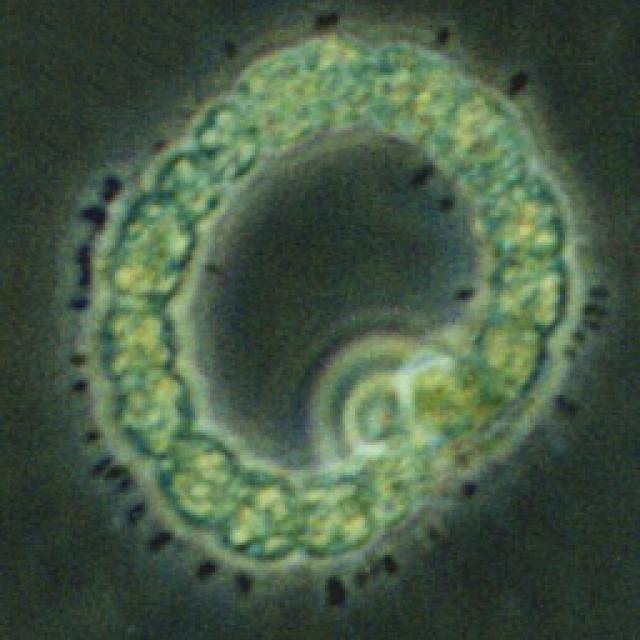Anabaena: (81, 21, 577, 561)
